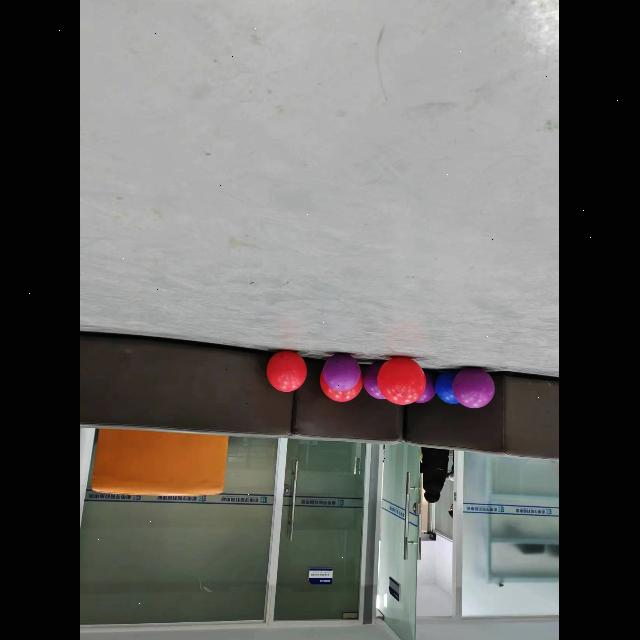B: (435, 369, 460, 404)
P: (453, 368, 496, 409), (324, 354, 362, 391), (363, 361, 387, 400), (416, 370, 437, 404)
R: (379, 357, 426, 405), (267, 351, 307, 392), (321, 371, 363, 402)
